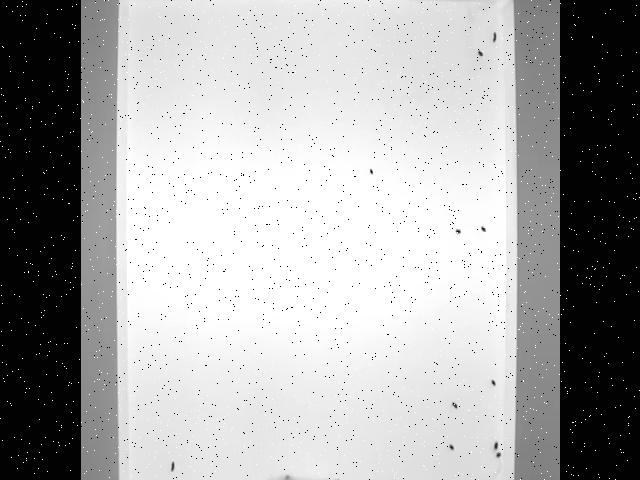Tikus: (251, 469, 397, 480)
